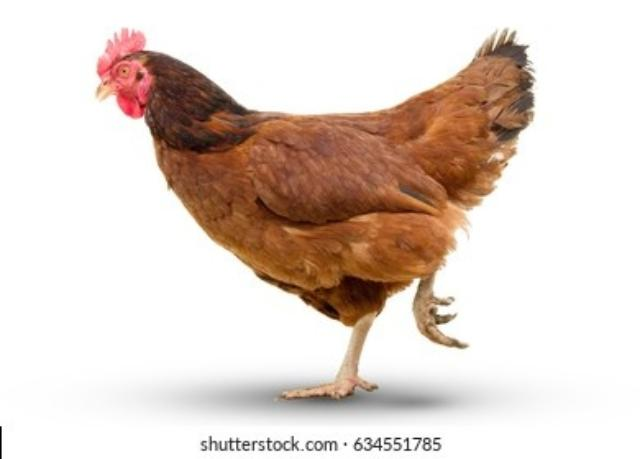Chicken: (94, 26, 534, 404)
